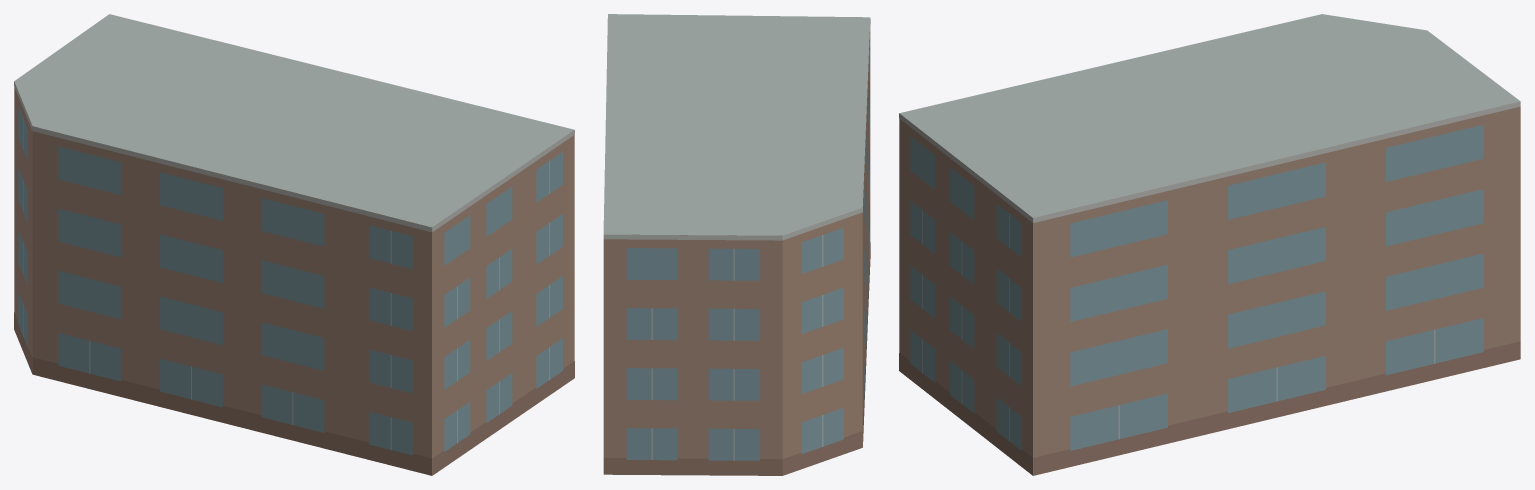
File: survey-upis-32694457.glb
3 views of the same model, side by side, from view 1: azimuth 30°, elevation 25°; view 2: azimuth 150°, elevation 25°; view 3: azimuth 270°, elevation 25° (orthographic). The views are drawn at different scales.
Parts seen in each view (by area): view 1: survey-upis-32694457.tmp; view 2: survey-upis-32694457.tmp; view 3: survey-upis-32694457.tmp.
Part boxes in pixels (box(x1,y1,x2,y2)): survey-upis-32694457.tmp: box(14, 14, 574, 475); survey-upis-32694457.tmp: box(603, 14, 870, 475); survey-upis-32694457.tmp: box(899, 14, 1520, 475).
Bounding box in the file's own units: 20.89 × 12.3 × 26.88.
